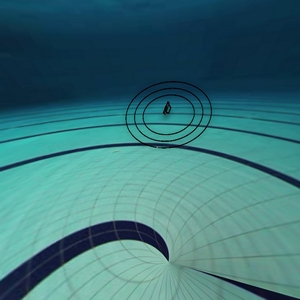circle: (111, 56, 229, 161)
submarine: (157, 98, 182, 122)
